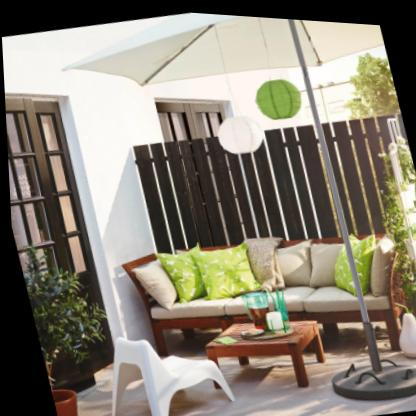Sofa: (112, 199, 416, 395)
Table: (192, 300, 332, 403)
